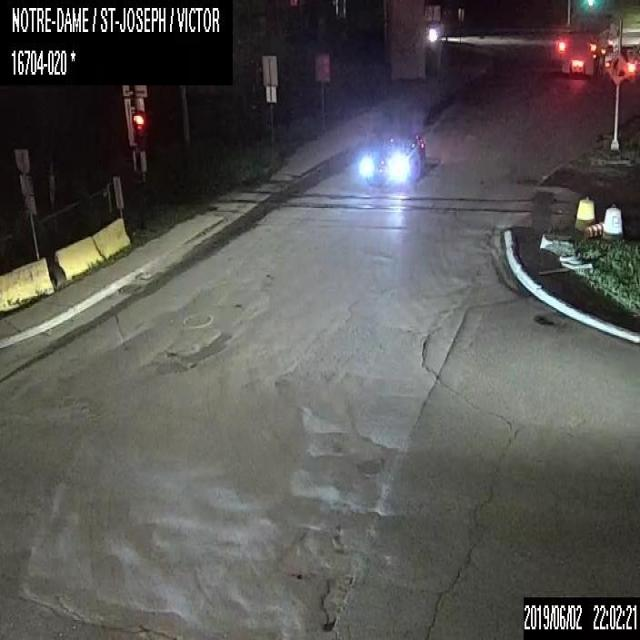construction: (606, 54, 630, 86), (584, 221, 603, 237)
vehicle: (558, 12, 620, 72), (365, 132, 424, 186)
